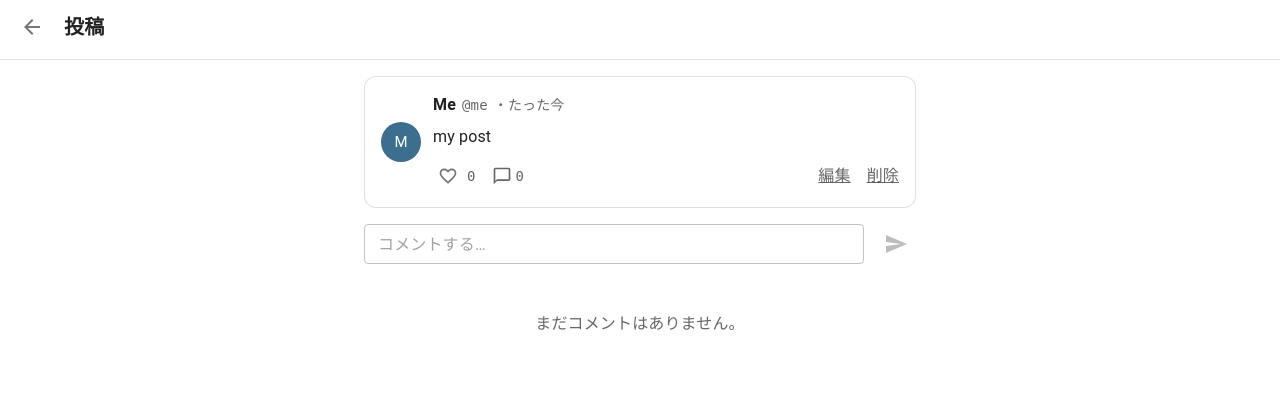
PostDetailPage › submits a new comment and appends it to the list
Check: the text "まだコメントはありません。" is shown, box [535,314,745,333]
Click the field with placeholder "コメントする…" at point(614, 244), box [364,224,864,264]
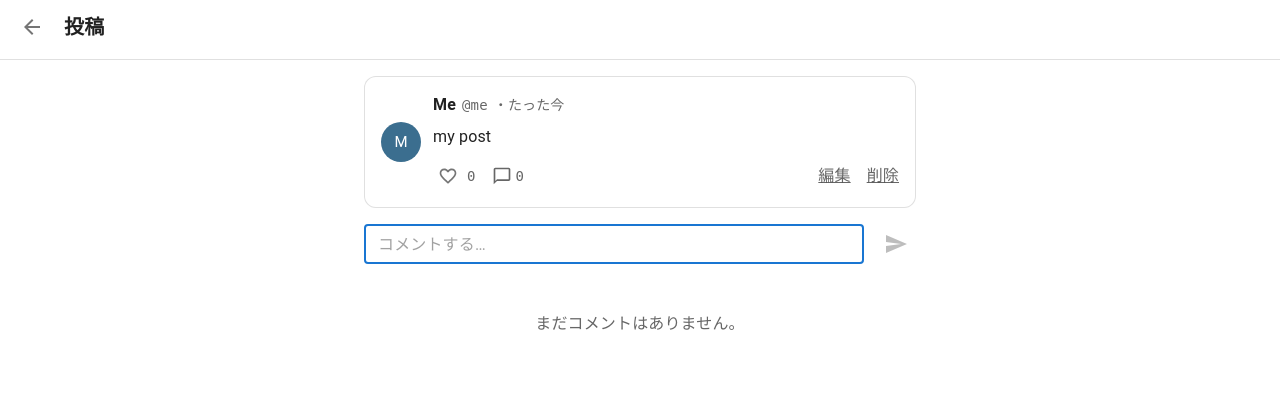
Type keys "new comment"
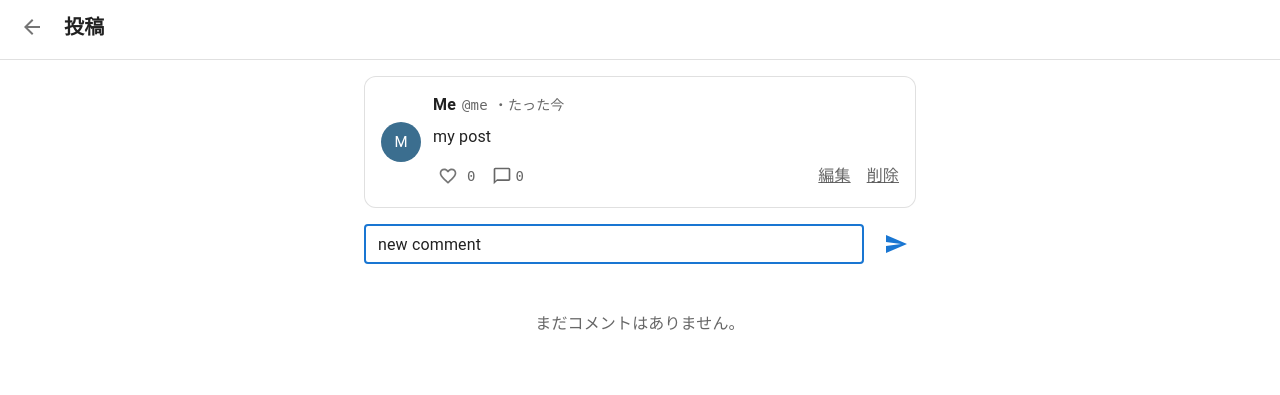
Click the button named "コメントを送信" at point(896, 244), box [876,224,916,264]
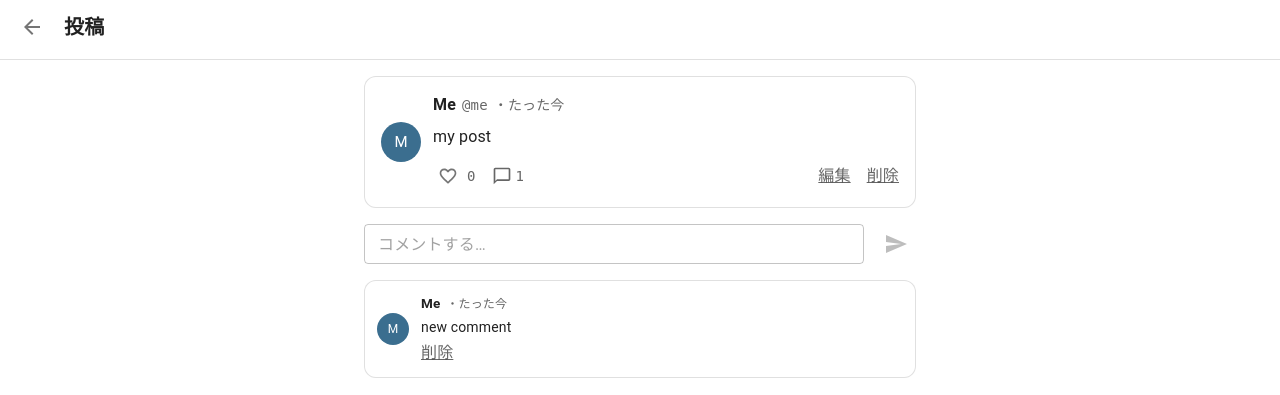
Check: the text "new comment" is shown, box [421,319,511,335]
